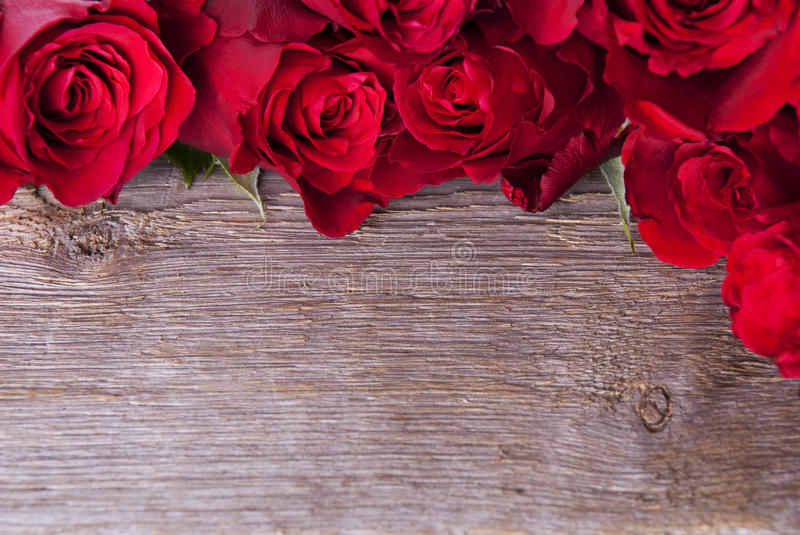RedRose: (184, 0, 392, 234), (0, 0, 196, 206), (502, 0, 800, 124), (377, 44, 581, 212), (606, 98, 800, 267), (701, 214, 800, 386), (298, 0, 493, 68)
